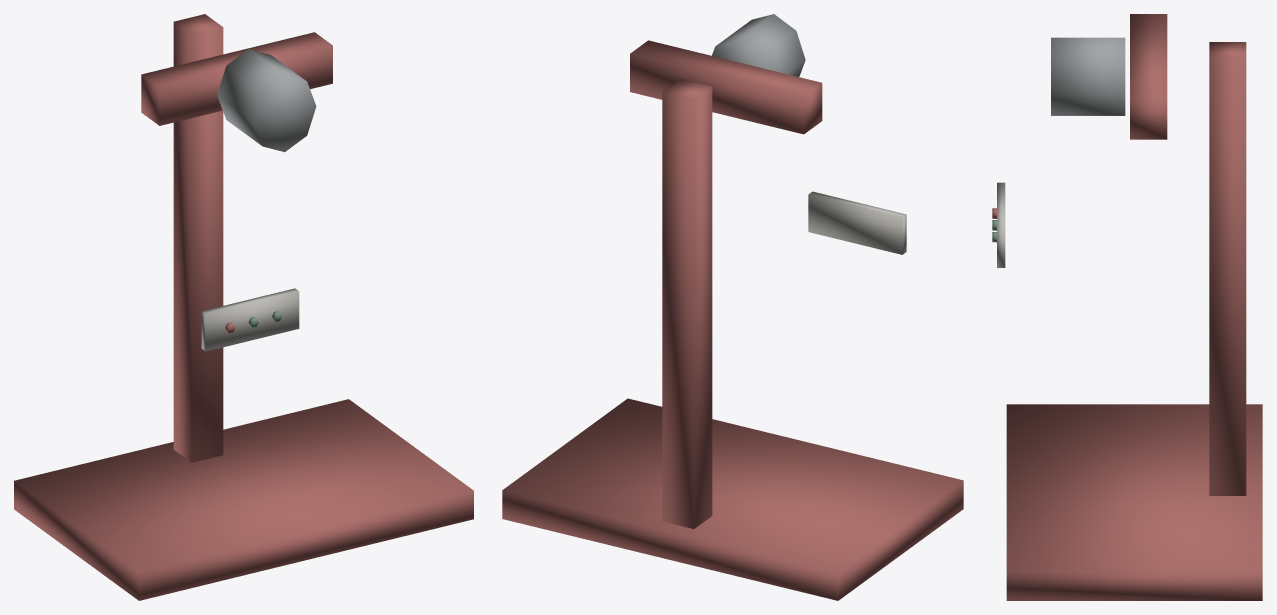
The model's file is engine_stand__tall.glb.
The picture shows the model from 3 angles, left to right: view 1: azimuth 30°, elevation 25°; view 2: azimuth 150°, elevation 25°; view 3: azimuth 270°, elevation 25°; orthographic projection. The views are drawn at different scales.
Visible parts, largest first — view 1: world; view 2: world; view 3: world.
Boxes of the visible parts, x1,y1,x2,y2 form: world: (14, 14, 473, 600); world: (502, 14, 963, 600); world: (992, 14, 1262, 600).
Size of the model in its own units: 0.85 by 1.14 by 0.581.
